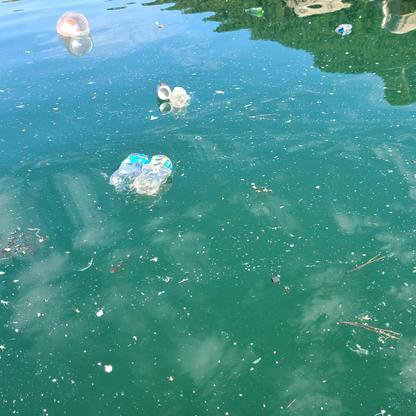can: (156, 81, 171, 99)
plastic bottle: (110, 148, 150, 193), (133, 153, 174, 196), (332, 23, 352, 31)
